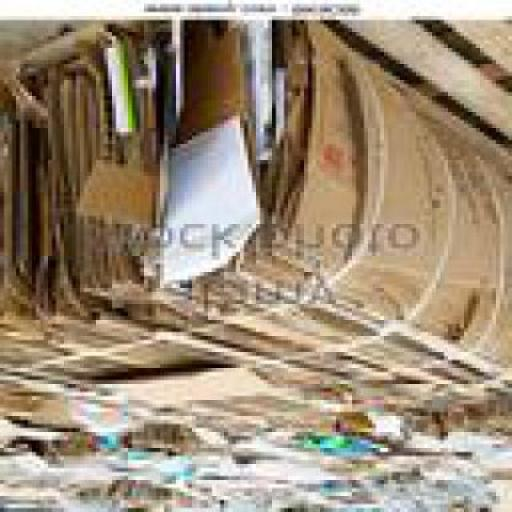cardboard: (136, 28, 508, 416), (236, 28, 508, 400), (76, 52, 244, 432), (100, 24, 284, 292), (0, 75, 105, 444), (32, 52, 135, 324), (0, 72, 44, 347), (208, 420, 393, 480), (396, 404, 508, 488), (88, 368, 276, 412), (108, 432, 192, 492), (0, 439, 66, 510), (300, 420, 384, 464), (44, 444, 108, 496), (124, 428, 208, 456)
